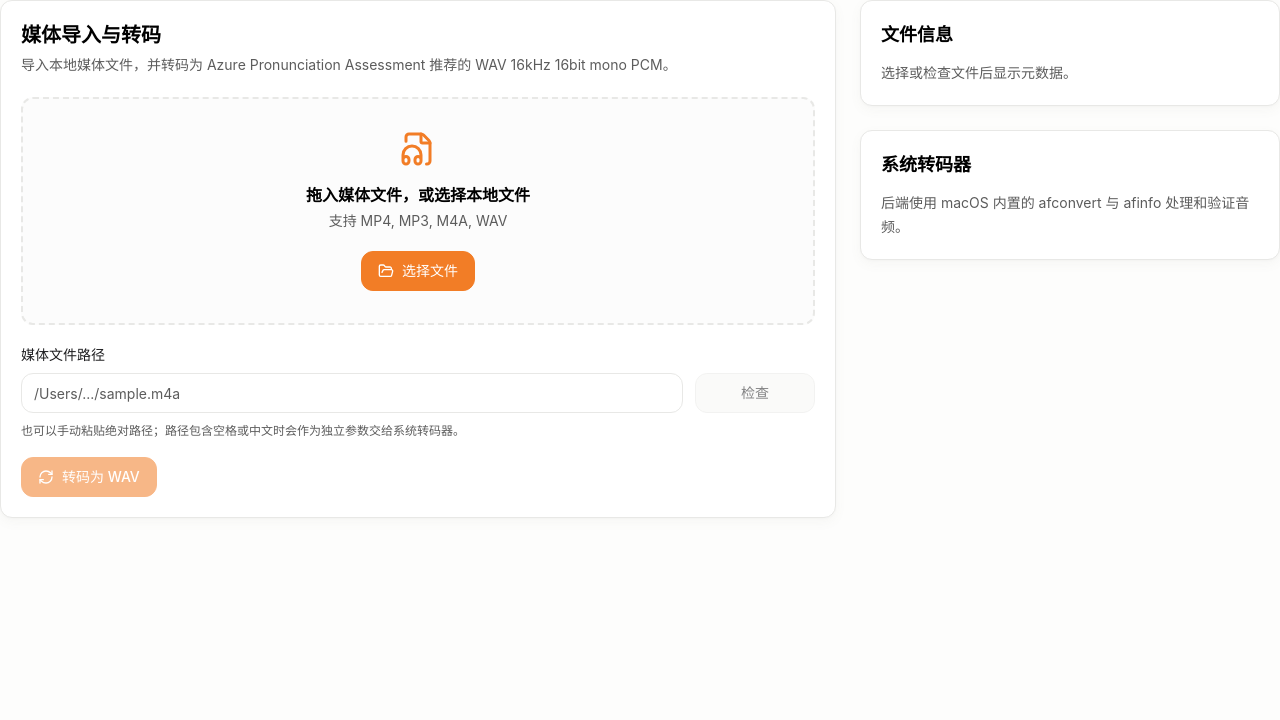
Scenario: MediaPage › shows a clear error when transcode fails
The image size is (1280, 720).
Type "/Users/test/broken.mp3" into the field labelled "媒体文件路径" at point(352, 393), box [21,373,683,413]
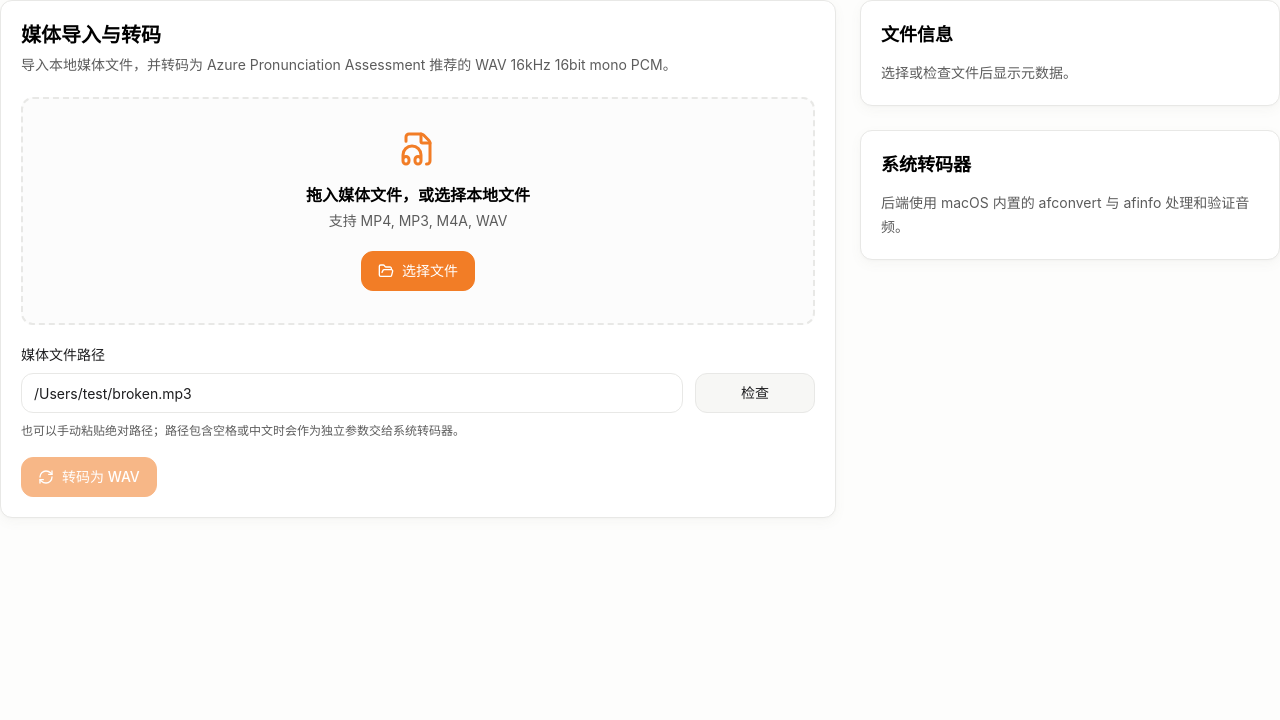
Click the button "检查" at point(755, 393), box [695,373,815,413]
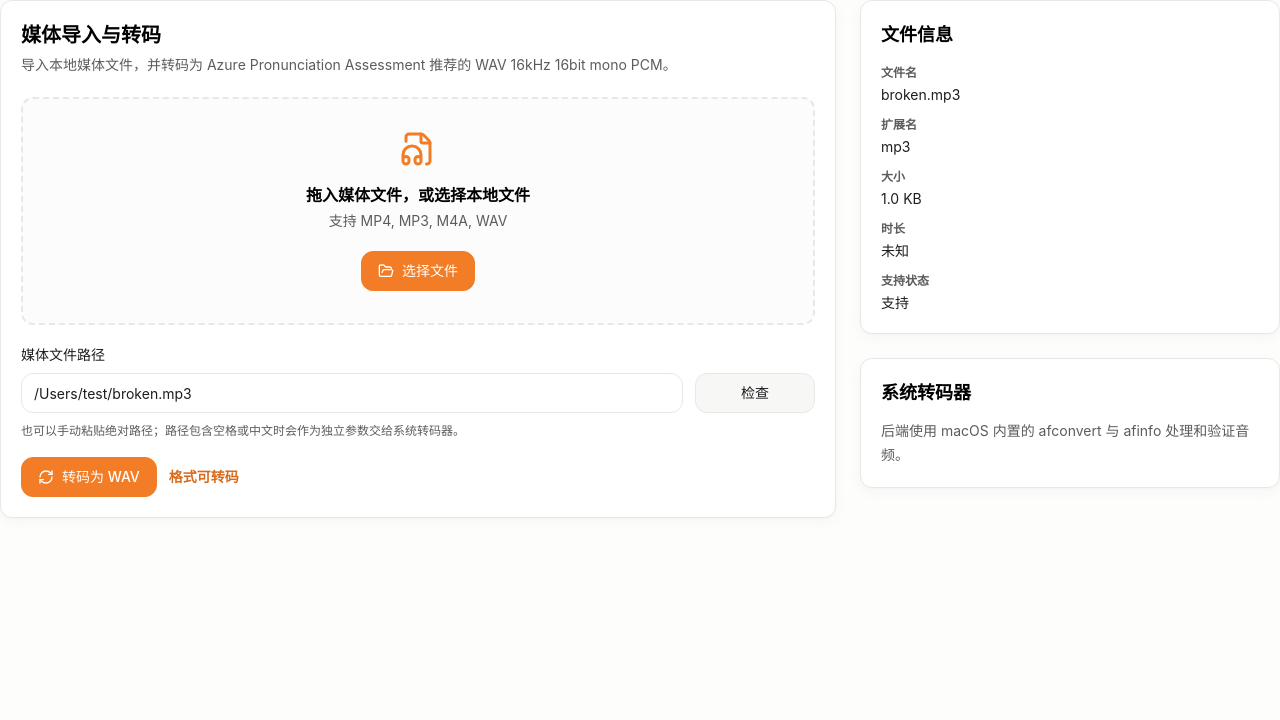
Check: the text "格式可转码" is shown, box [169,467,239,487]
Click the button "转码为 WAV" at point(89, 477), box [21,457,157,497]
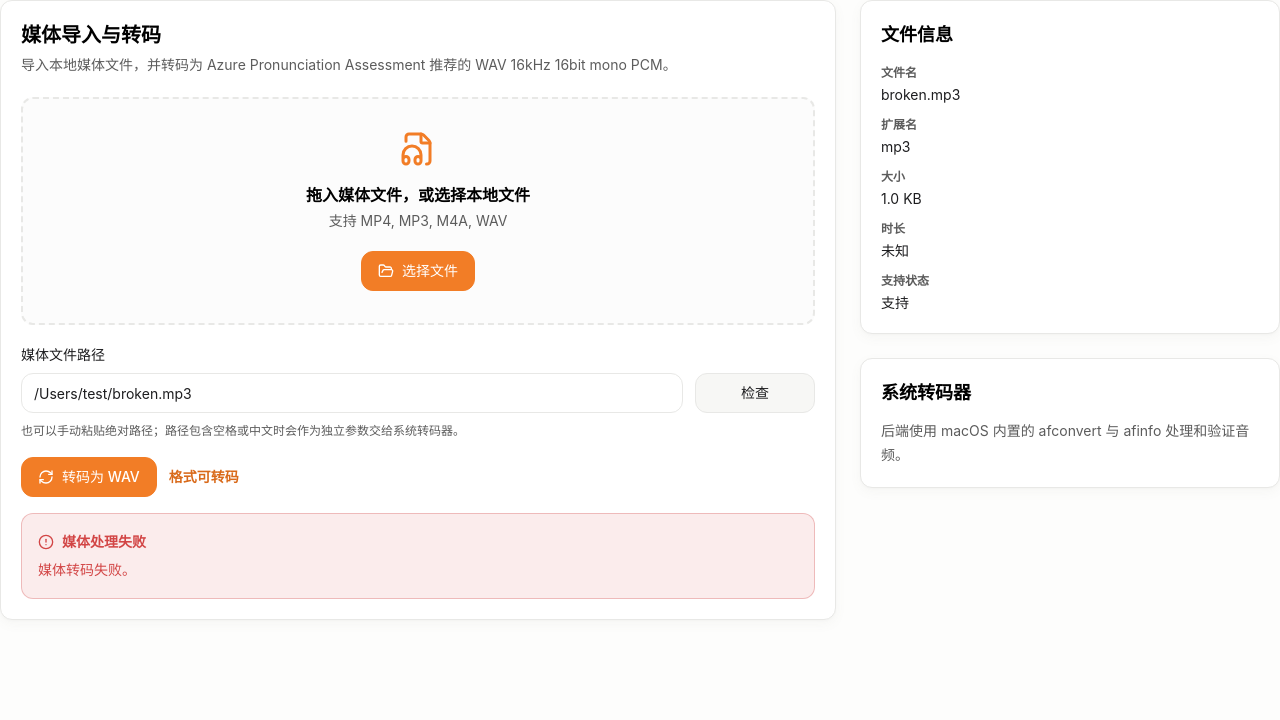
Check: the text "媒体处理失败" is shown, box [38,533,146,550]
Check: the text "媒体转码失败。" is shown, box [38,561,136,578]
